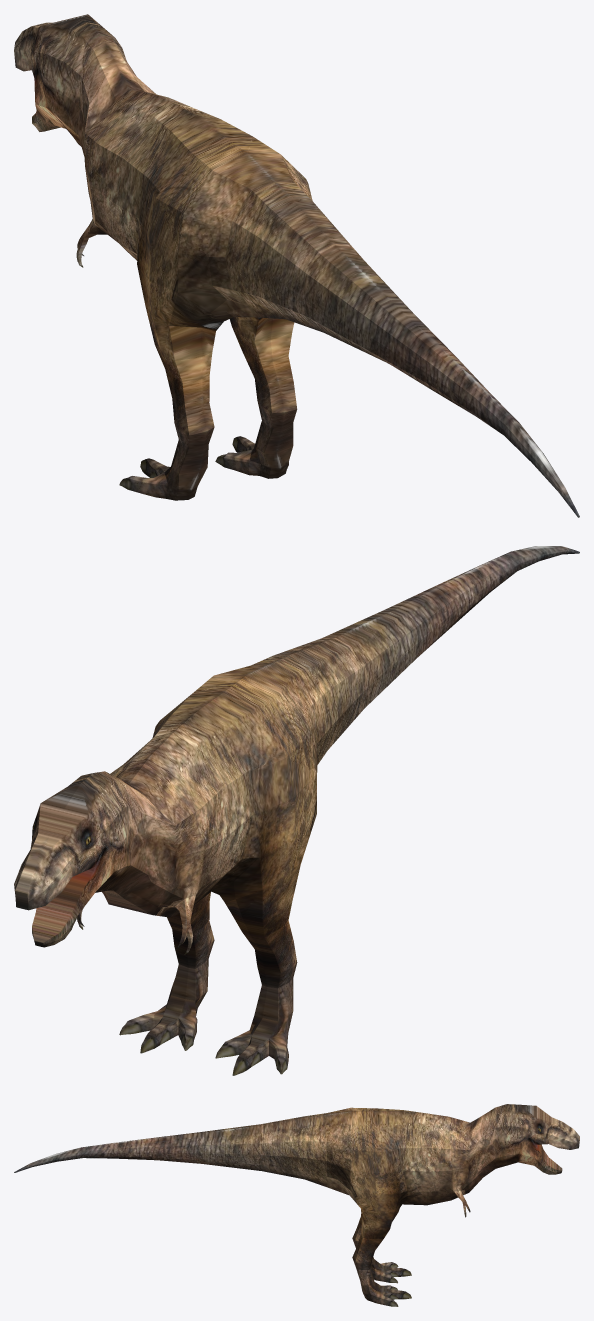
The picture shows the model from 3 angles, top to bottom: view 1: azimuth 30°, elevation 25°; view 2: azimuth 150°, elevation 25°; view 3: azimuth 270°, elevation 25°; orthographic projection. The views are drawn at different scales.
Visible parts, largest first — view 1: T Rex; view 2: T Rex; view 3: T Rex.
Boxes of the visible parts, x1,y1,x2,y2 form: T Rex: (14, 14, 579, 517); T Rex: (14, 546, 579, 1075); T Rex: (14, 1104, 579, 1306).
Size of the model in its own units: 21.56 by 45.59 by 128.
Materials: 1 (1 with a texture image).
